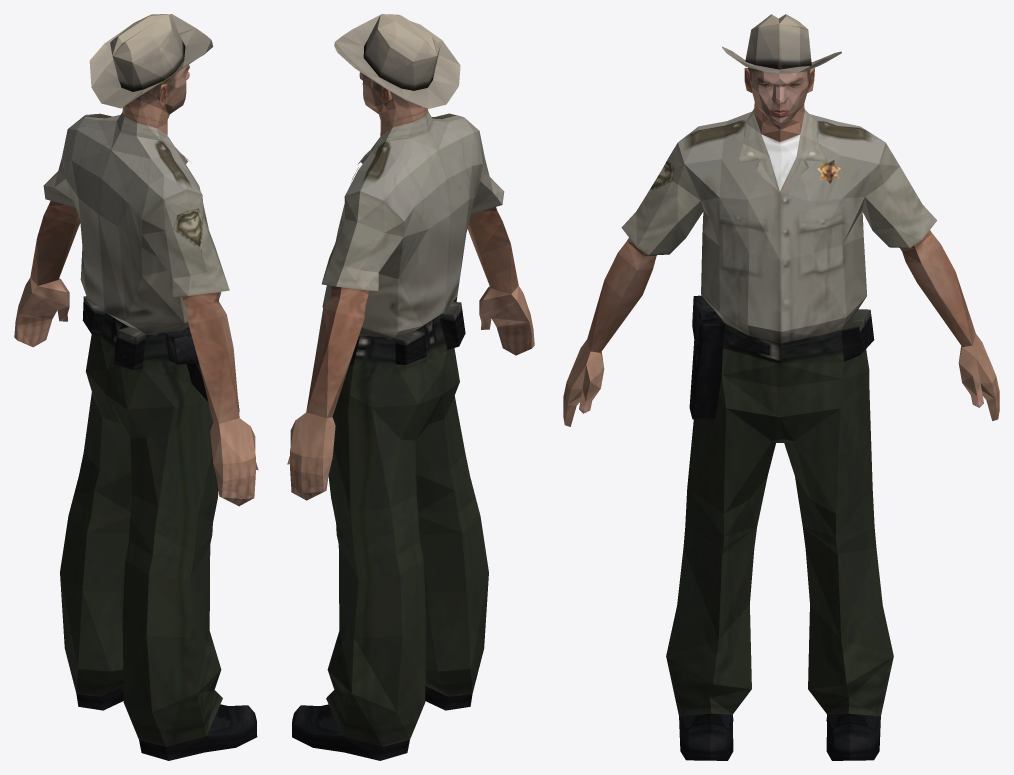
File: dsher.obj
3 views of the same model, side by side, from view 1: azimuth 30°, elevation 25°; view 2: azimuth 150°, elevation 25°; view 3: azimuth 270°, elevation 25° (orthographic). The views are drawn at different scales.
Parts seen in each view (by area): view 1: _Pelvis; view 2: _Pelvis; view 3: _Pelvis.
Part boxes in pixels (x1=…): _Pelvis: x1=14, y1=14, x2=258, y2=760; _Pelvis: x1=287, y1=14, x2=534, y2=760; _Pelvis: x1=563, y1=14, x2=999, y2=760.
Bounding box in the file's own units: 0.3476 × 1.88 × 1.03.
Materials: 1 (1 with a texture image).
